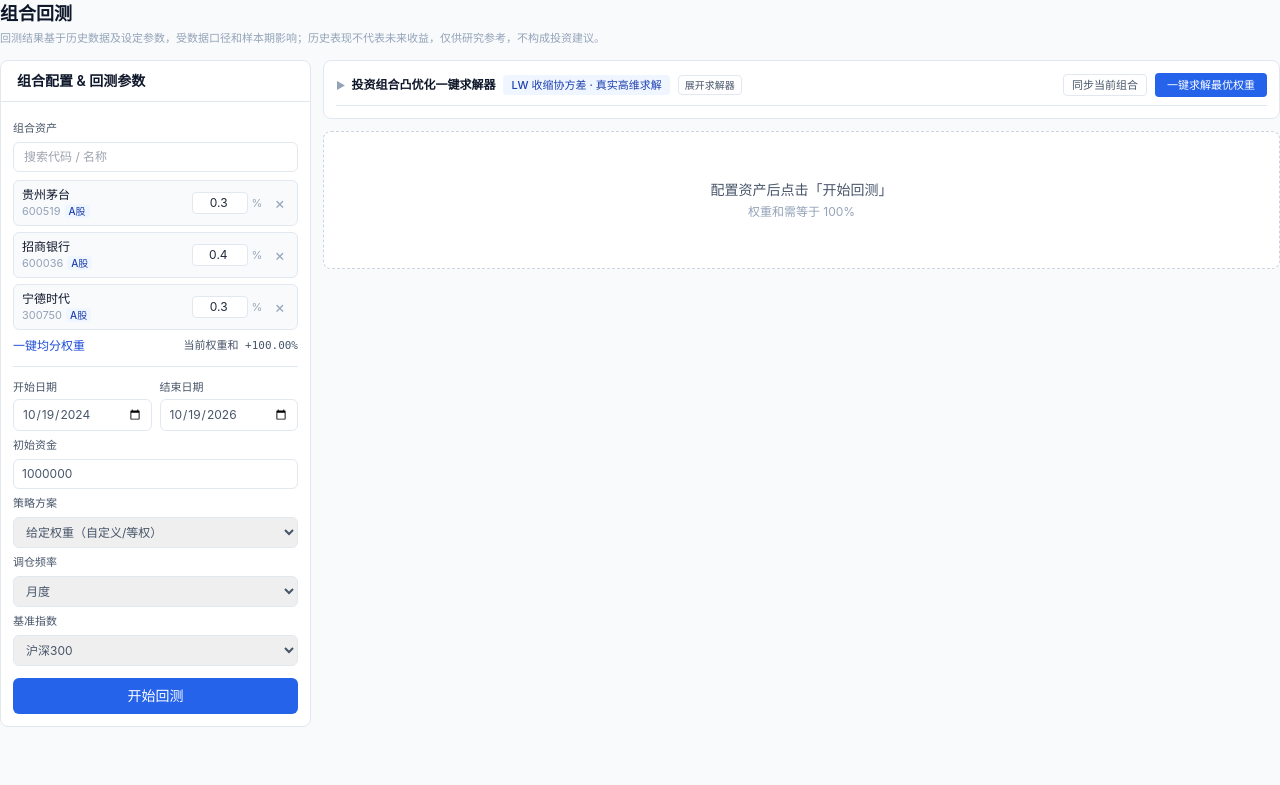
Scenario: PortfolioBacktest Workbench › 切换至 Tab 2 (Risk & Stress) 正确展示黑天鹅压力测试与蒙特卡洛
What coordinates should you click on to do the following:
click the button "开始回测"
I would click on:
 (156, 696)
Its box is [13, 678, 298, 714].
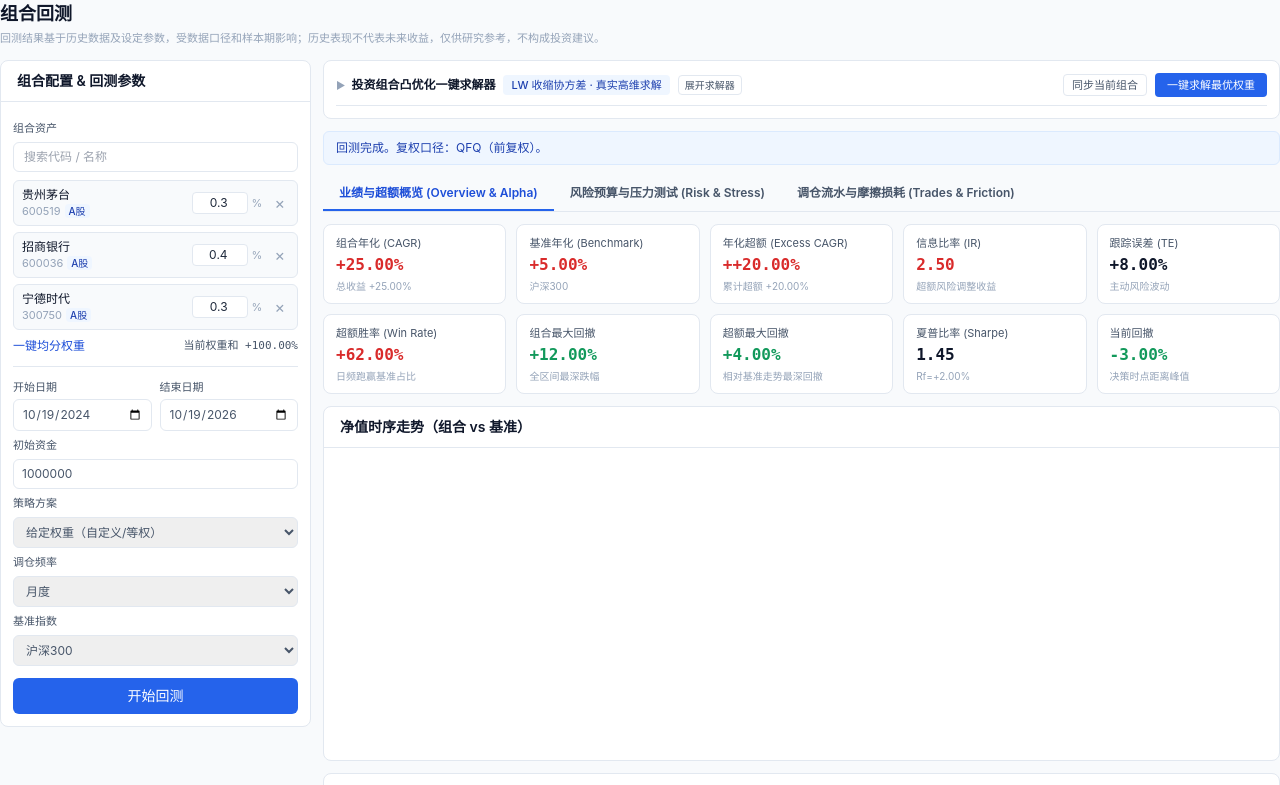
Result: the button "风险预算与压力测试 (Risk & Stress)" is shown
点击切换至 Tab 2
What coordinates should you click on to do the following:
click the button "风险预算与压力测试 (Risk & Stress)"
I would click on:
 (667, 194)
Its box is [554, 177, 781, 211].
(page scrolled)
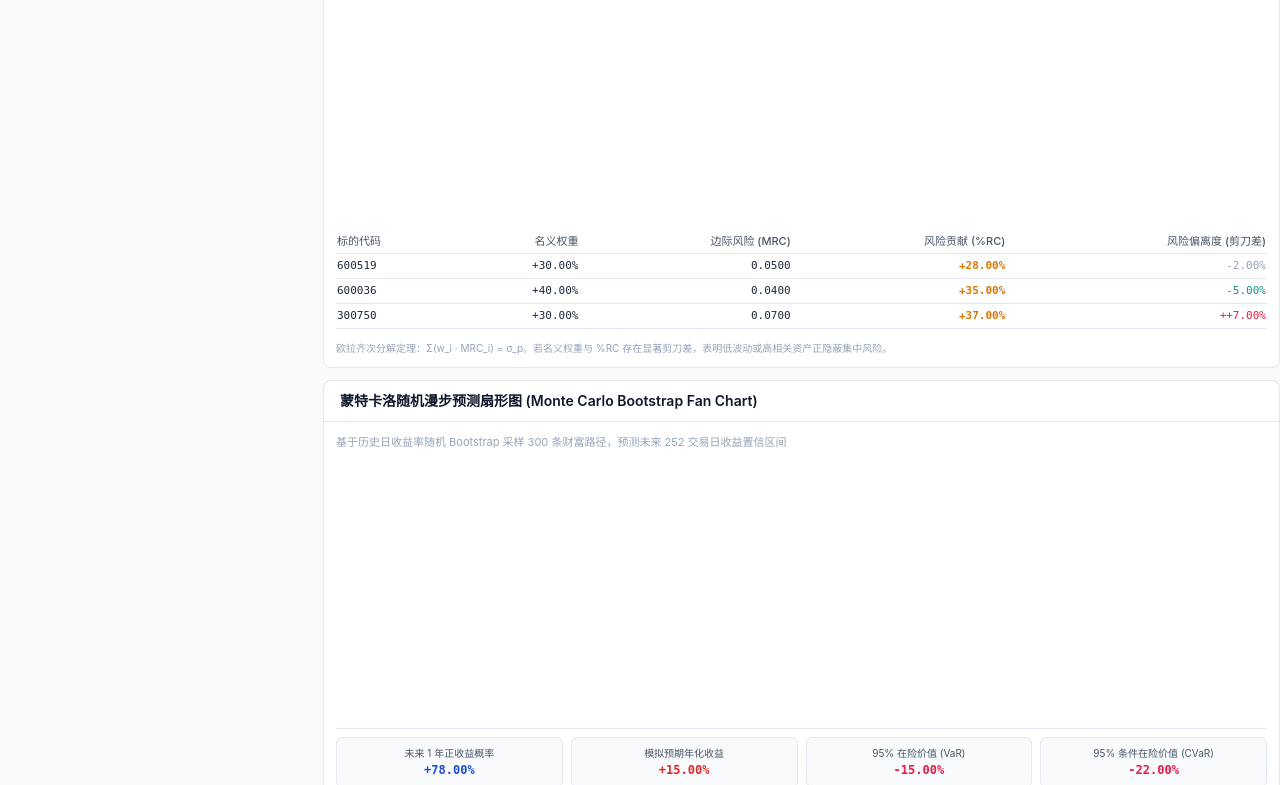
Result: the heading "蒙特卡洛随机漫步预测扇形图 (Monte Carlo Bootstrap Fan Chart)" is shown at [340, 391, 758, 411]
Result: the text "未来 1 年正收益概率" is shown at [404, 747, 494, 759]
